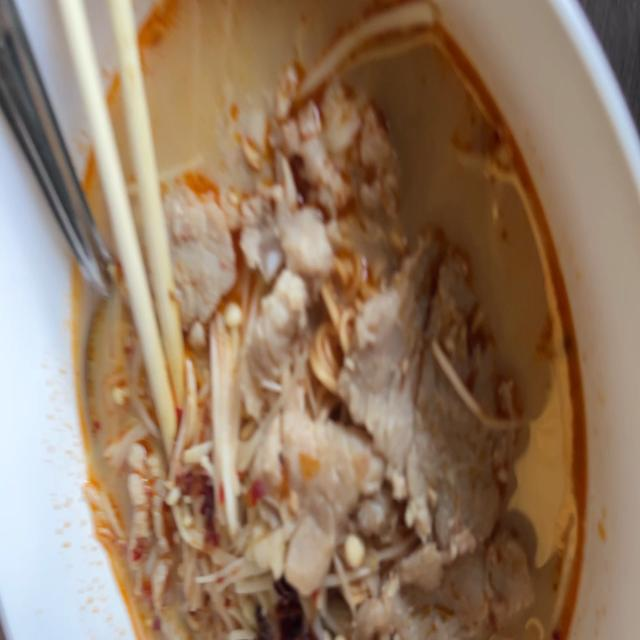noodle: (60, 0, 588, 640)
